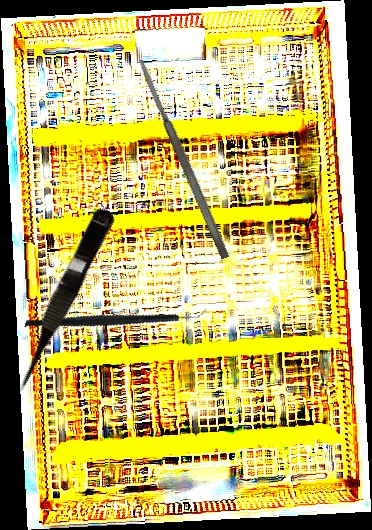Chopper: (24, 252, 208, 380)
Micro Scissor: (3, 203, 118, 398)
Spatula Surgical: (135, 57, 232, 261)
